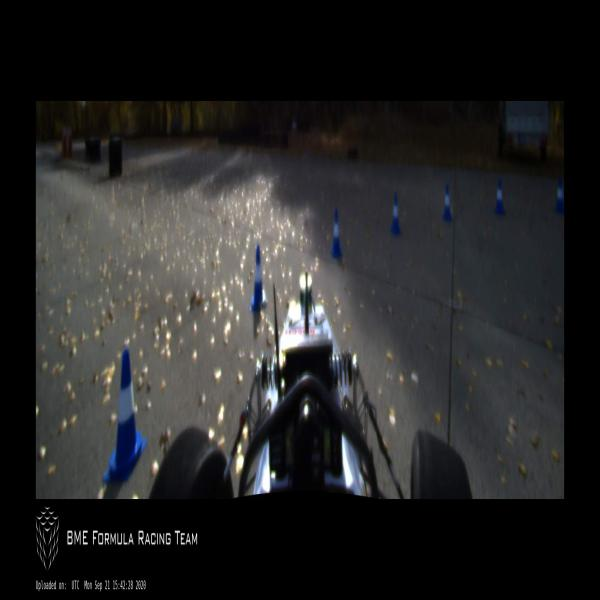blue_cone: (102, 349, 148, 482), (249, 246, 267, 313), (330, 208, 343, 254), (389, 193, 401, 237), (441, 183, 453, 221), (494, 179, 505, 212), (555, 179, 564, 213)
